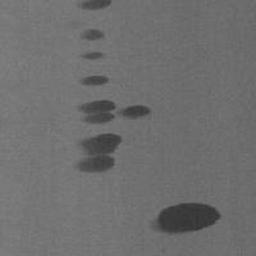Oil spot: (148, 201, 221, 237), (69, 131, 124, 175), (74, 97, 154, 125), (77, 74, 111, 88), (74, 0, 113, 12), (77, 27, 106, 42), (76, 50, 105, 61)
